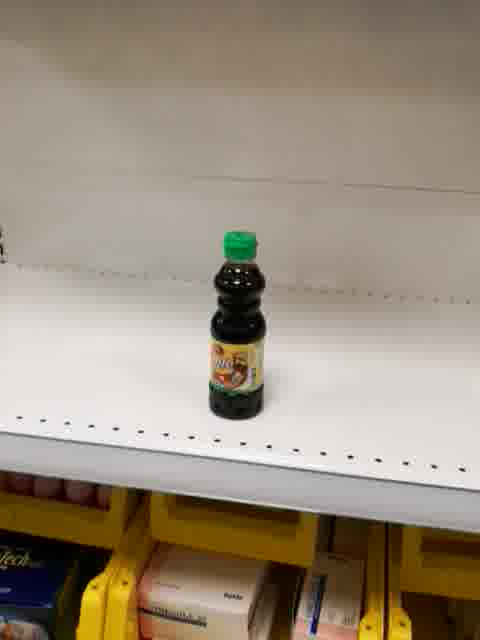cookingoil: (206, 228, 270, 421)
